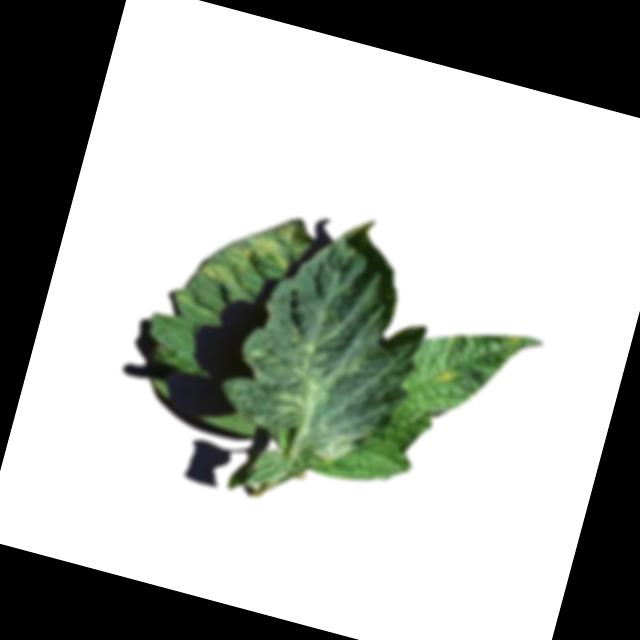Leaf_Mold: (219, 202, 303, 278), (312, 421, 368, 468), (192, 255, 237, 288), (430, 362, 464, 391), (499, 330, 524, 351)
